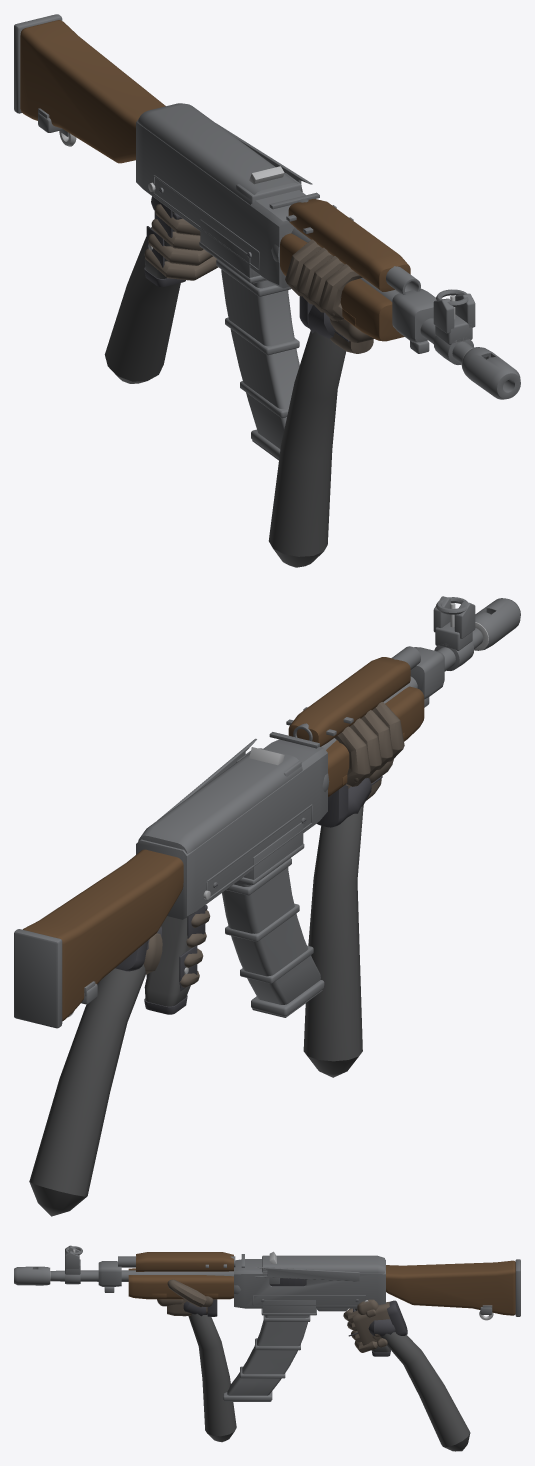
The picture shows the model from 3 angles, top to bottom: view 1: azimuth 30°, elevation 25°; view 2: azimuth 150°, elevation 25°; view 3: azimuth 270°, elevation 25°; orthographic projection. The views are drawn at different scales.
Visible parts, largest first — view 1: vk74, HandLeft, Magazine, HandRight; view 2: vk74, HandLeft, HandRight, Magazine; view 3: vk74, HandRight, HandLeft, Magazine.
Part boxes in pixels (x1=…): vk74: x1=14, y1=14, x2=520, y2=399; HandLeft: x1=268, y1=239, x2=373, y2=567; Magazine: x1=216, y1=259, x2=299, y2=460; HandRight: x1=104, y1=196, x2=218, y2=383; vk74: x1=14, y1=596, x2=520, y2=1028; HandLeft: x1=303, y1=702, x2=404, y2=1077; HandRight: x1=29, y1=910, x2=210, y2=1216; Magazine: x1=222, y1=858, x2=324, y2=1017; vk74: x1=14, y1=1245, x2=520, y2=1356; HandRight: x1=343, y1=1299, x2=470, y2=1451; HandLeft: x1=157, y1=1279, x2=236, y2=1442; Magazine: x1=223, y1=1315, x2=310, y2=1401.
Bounding box in the file's own units: 0.1101 × 0.3637 × 0.8435.
